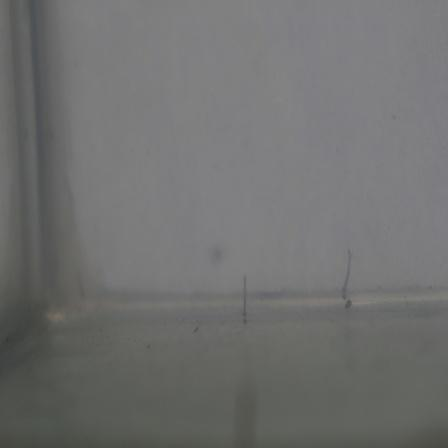Jentik-Nyamuk: (339, 245, 359, 302), (239, 275, 251, 326)
